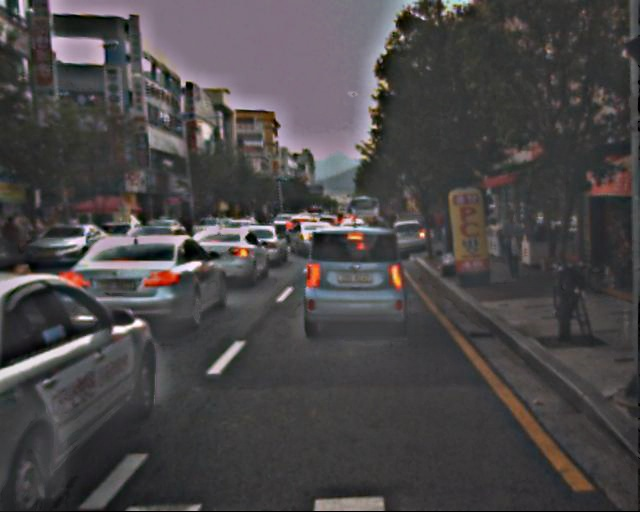person: (498, 210, 529, 285)
